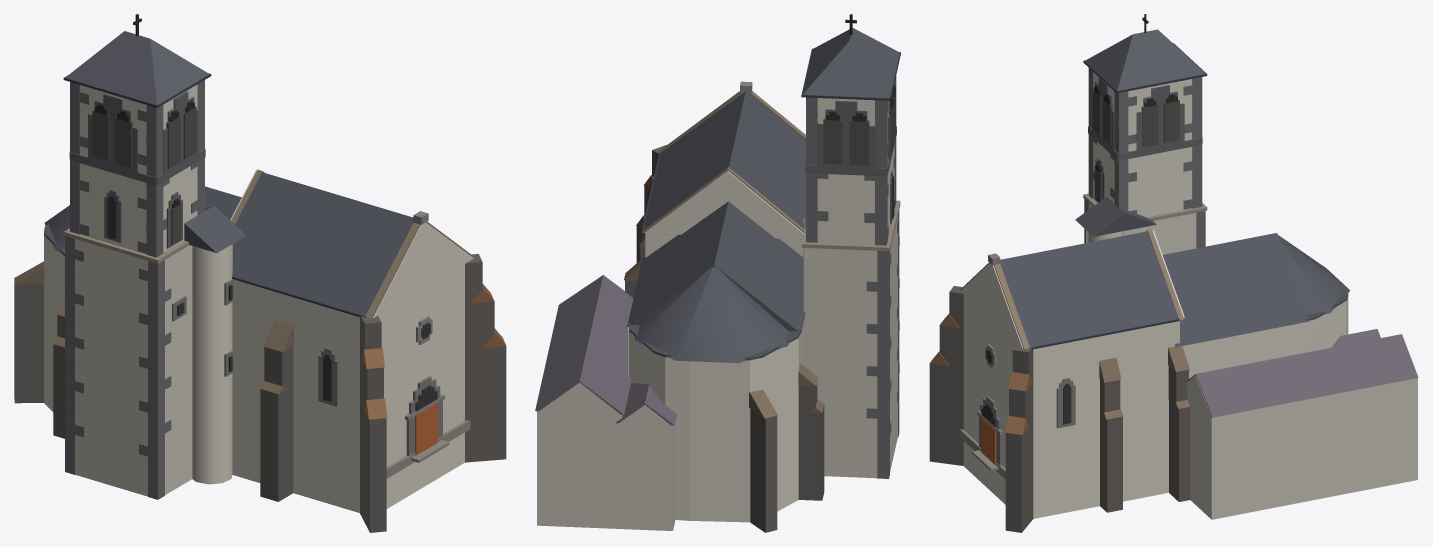
The model's file is eglise.glb.
3 views of the same model, side by side, from view 1: azimuth 30°, elevation 25°; view 2: azimuth 150°, elevation 25°; view 3: azimuth 270°, elevation 25° (orthographic). The views are drawn at different scales.
Parts seen in each view (by area): view 1: Église de Vernines; view 2: Église de Vernines; view 3: Église de Vernines.
Part boxes in pixels (x1=…): Église de Vernines: x1=14, y1=14, x2=506, y2=532; Église de Vernines: x1=535, y1=14, x2=900, y2=532; Église de Vernines: x1=929, y1=14, x2=1418, y2=532.
Size of the model in its own units: 20.13 by 24.95 by 28.05.
